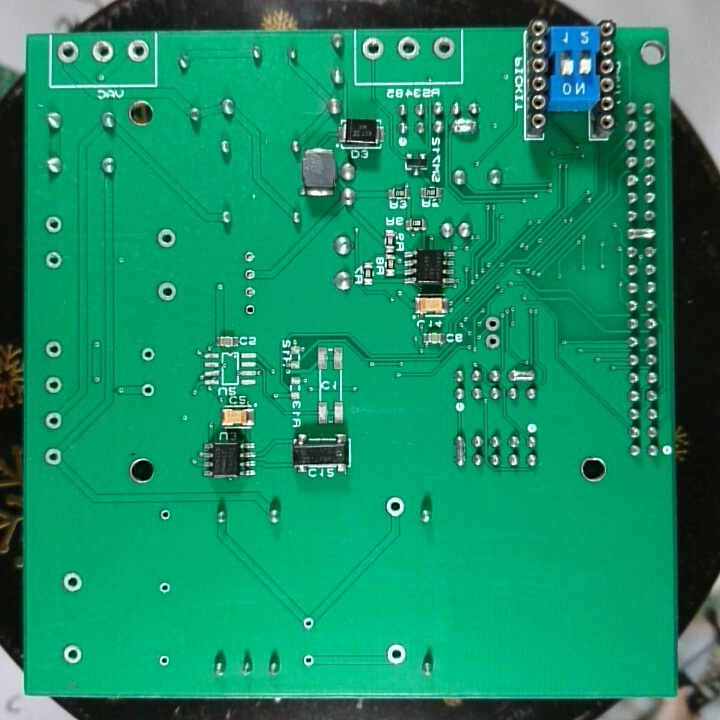F: (359, 35, 387, 63), (395, 35, 421, 64), (431, 35, 457, 63), (89, 40, 117, 66), (125, 38, 151, 64), (154, 225, 179, 252), (56, 39, 80, 67), (60, 569, 85, 595), (154, 279, 179, 304), (383, 495, 408, 520), (385, 642, 408, 667), (42, 409, 65, 433), (42, 213, 65, 236), (61, 643, 84, 666), (42, 338, 64, 360), (42, 374, 64, 396), (43, 249, 64, 272), (42, 446, 65, 467), (482, 332, 503, 352), (139, 344, 158, 364), (137, 380, 157, 399), (157, 579, 174, 599), (482, 315, 502, 332), (242, 282, 259, 301), (299, 615, 317, 632), (301, 652, 317, 671), (242, 302, 259, 318), (157, 506, 174, 522), (156, 652, 171, 670), (242, 247, 257, 264), (242, 266, 257, 283)
P: (452, 431, 470, 469), (449, 115, 479, 137), (507, 366, 539, 383), (625, 226, 658, 241)
